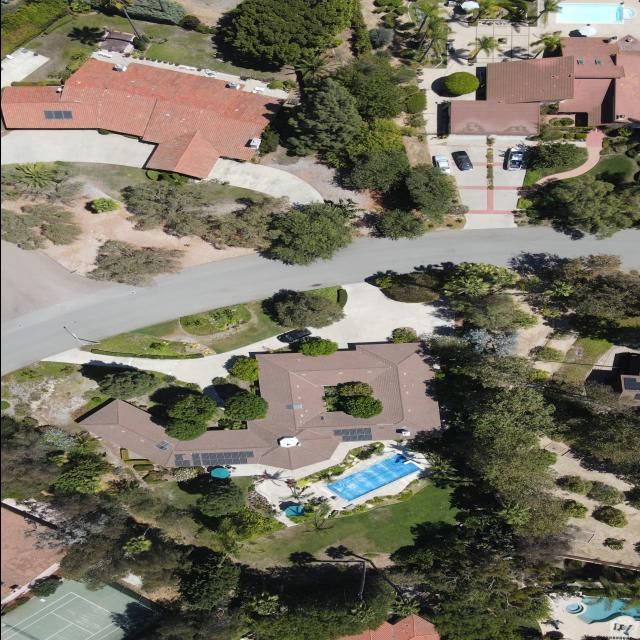solar-panels: (200, 451, 253, 466), (332, 428, 372, 442), (153, 437, 173, 454), (42, 110, 72, 120), (622, 378, 640, 391), (172, 454, 189, 467), (191, 453, 200, 467), (284, 404, 301, 410), (632, 393, 640, 400)
